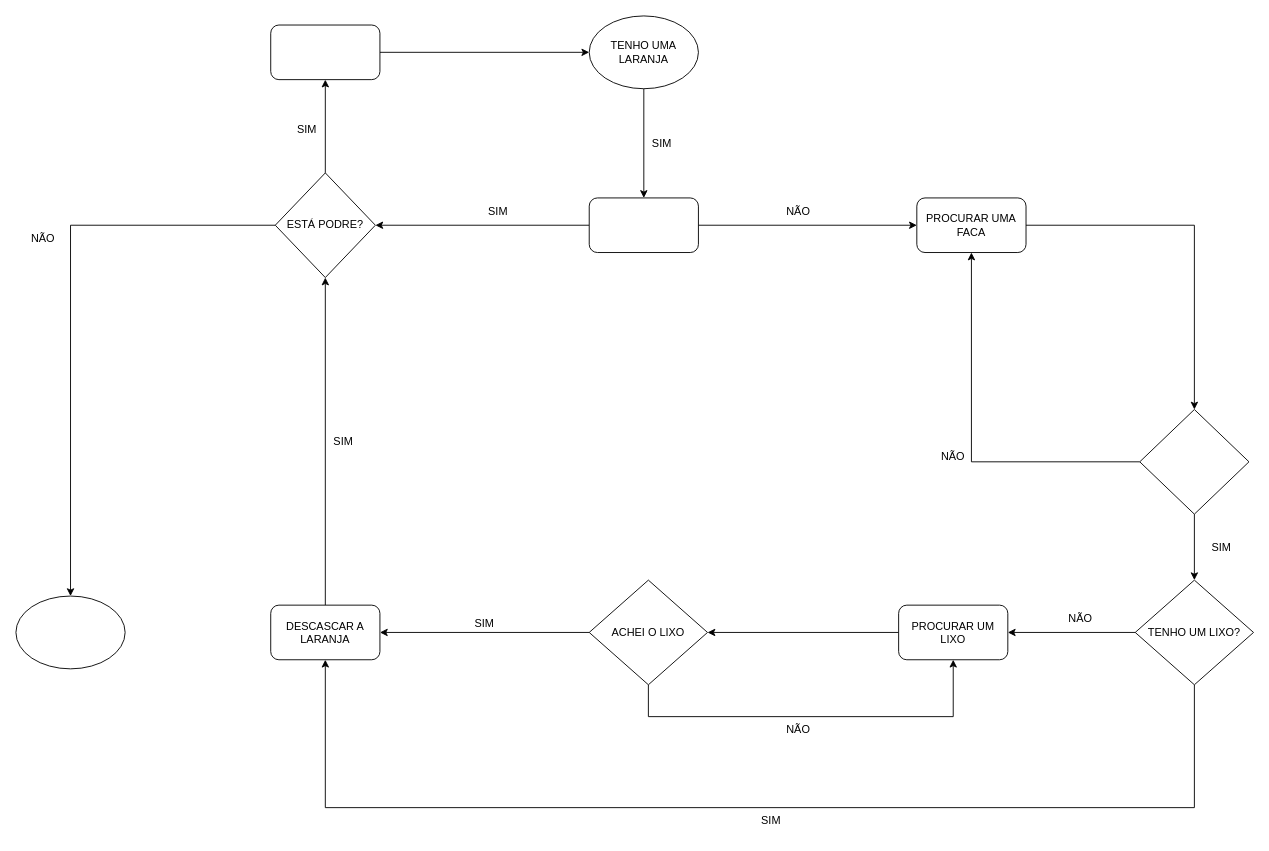
The diagram is 1269 pixels wide and 851 high, and some of its shapes have lost their labels. The box of each missing label's shape, as (x1, y1, x2, y2) in pixels:
ACHEI A FACA: (1139, 409, 1249, 514)
COMER A LARANJA: (15, 595, 125, 669)
ELA ESTÁ DESCASCADA?: (588, 197, 698, 253)
TROCAR A LARANJA: (270, 24, 380, 80)
